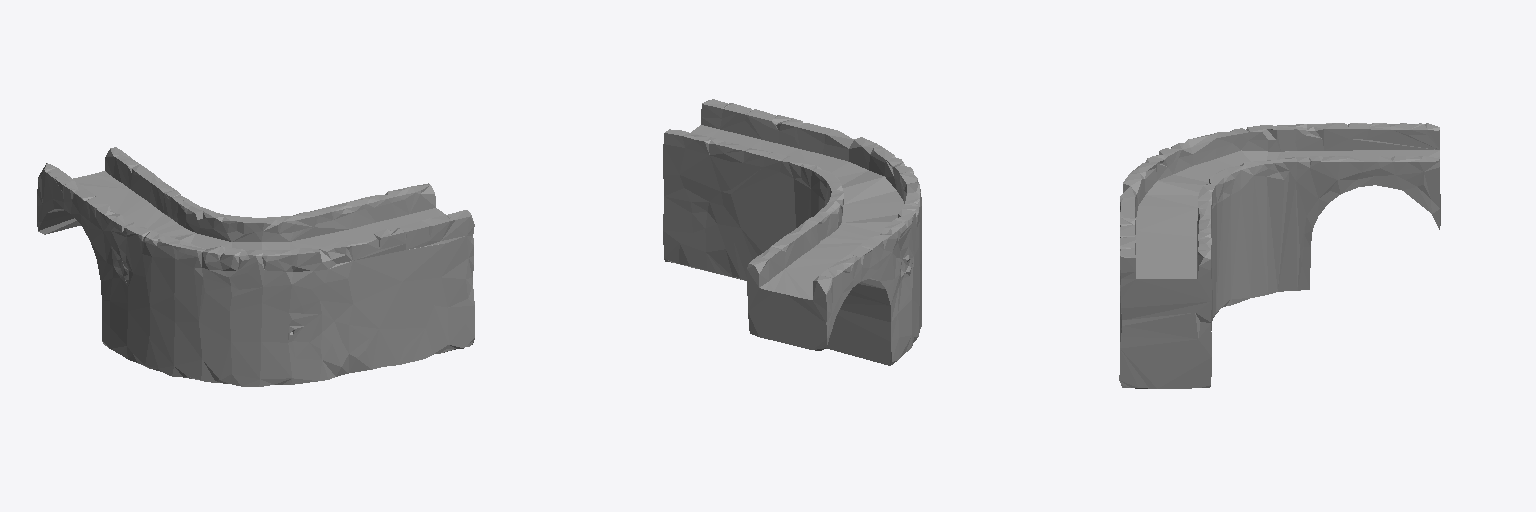
File: bridge.obj
The picture shows the model from 3 angles: view 1: azimuth 30°, elevation 25°; view 2: azimuth 150°, elevation 25°; view 3: azimuth 270°, elevation 25°; orthographic projection.
Visible parts, largest first — view 1: bridge_exp_Cube.004; view 2: bridge_exp_Cube.004; view 3: bridge_exp_Cube.004.
Part boxes in pixels (x1,y1,x2,y2): bridge_exp_Cube.004: (37, 147, 474, 386); bridge_exp_Cube.004: (663, 99, 921, 365); bridge_exp_Cube.004: (1119, 123, 1440, 388).
Size of the model in its own units: 17.7 by 8.04 by 17.7.